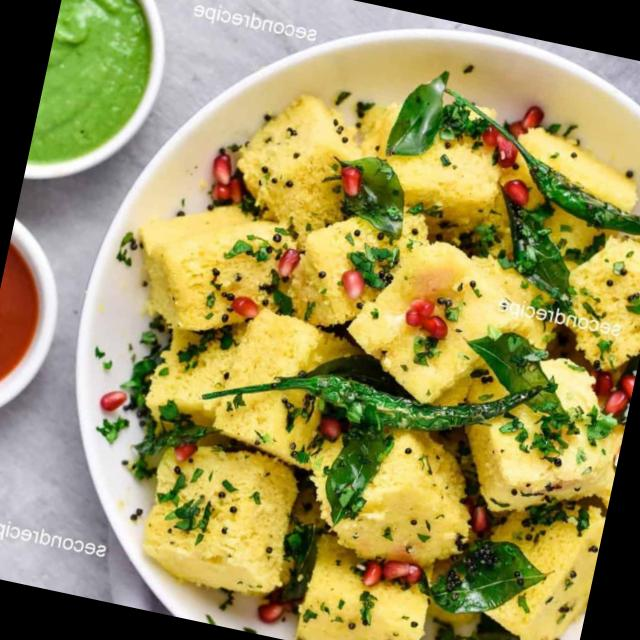dhokla: (61, 29, 640, 640)
